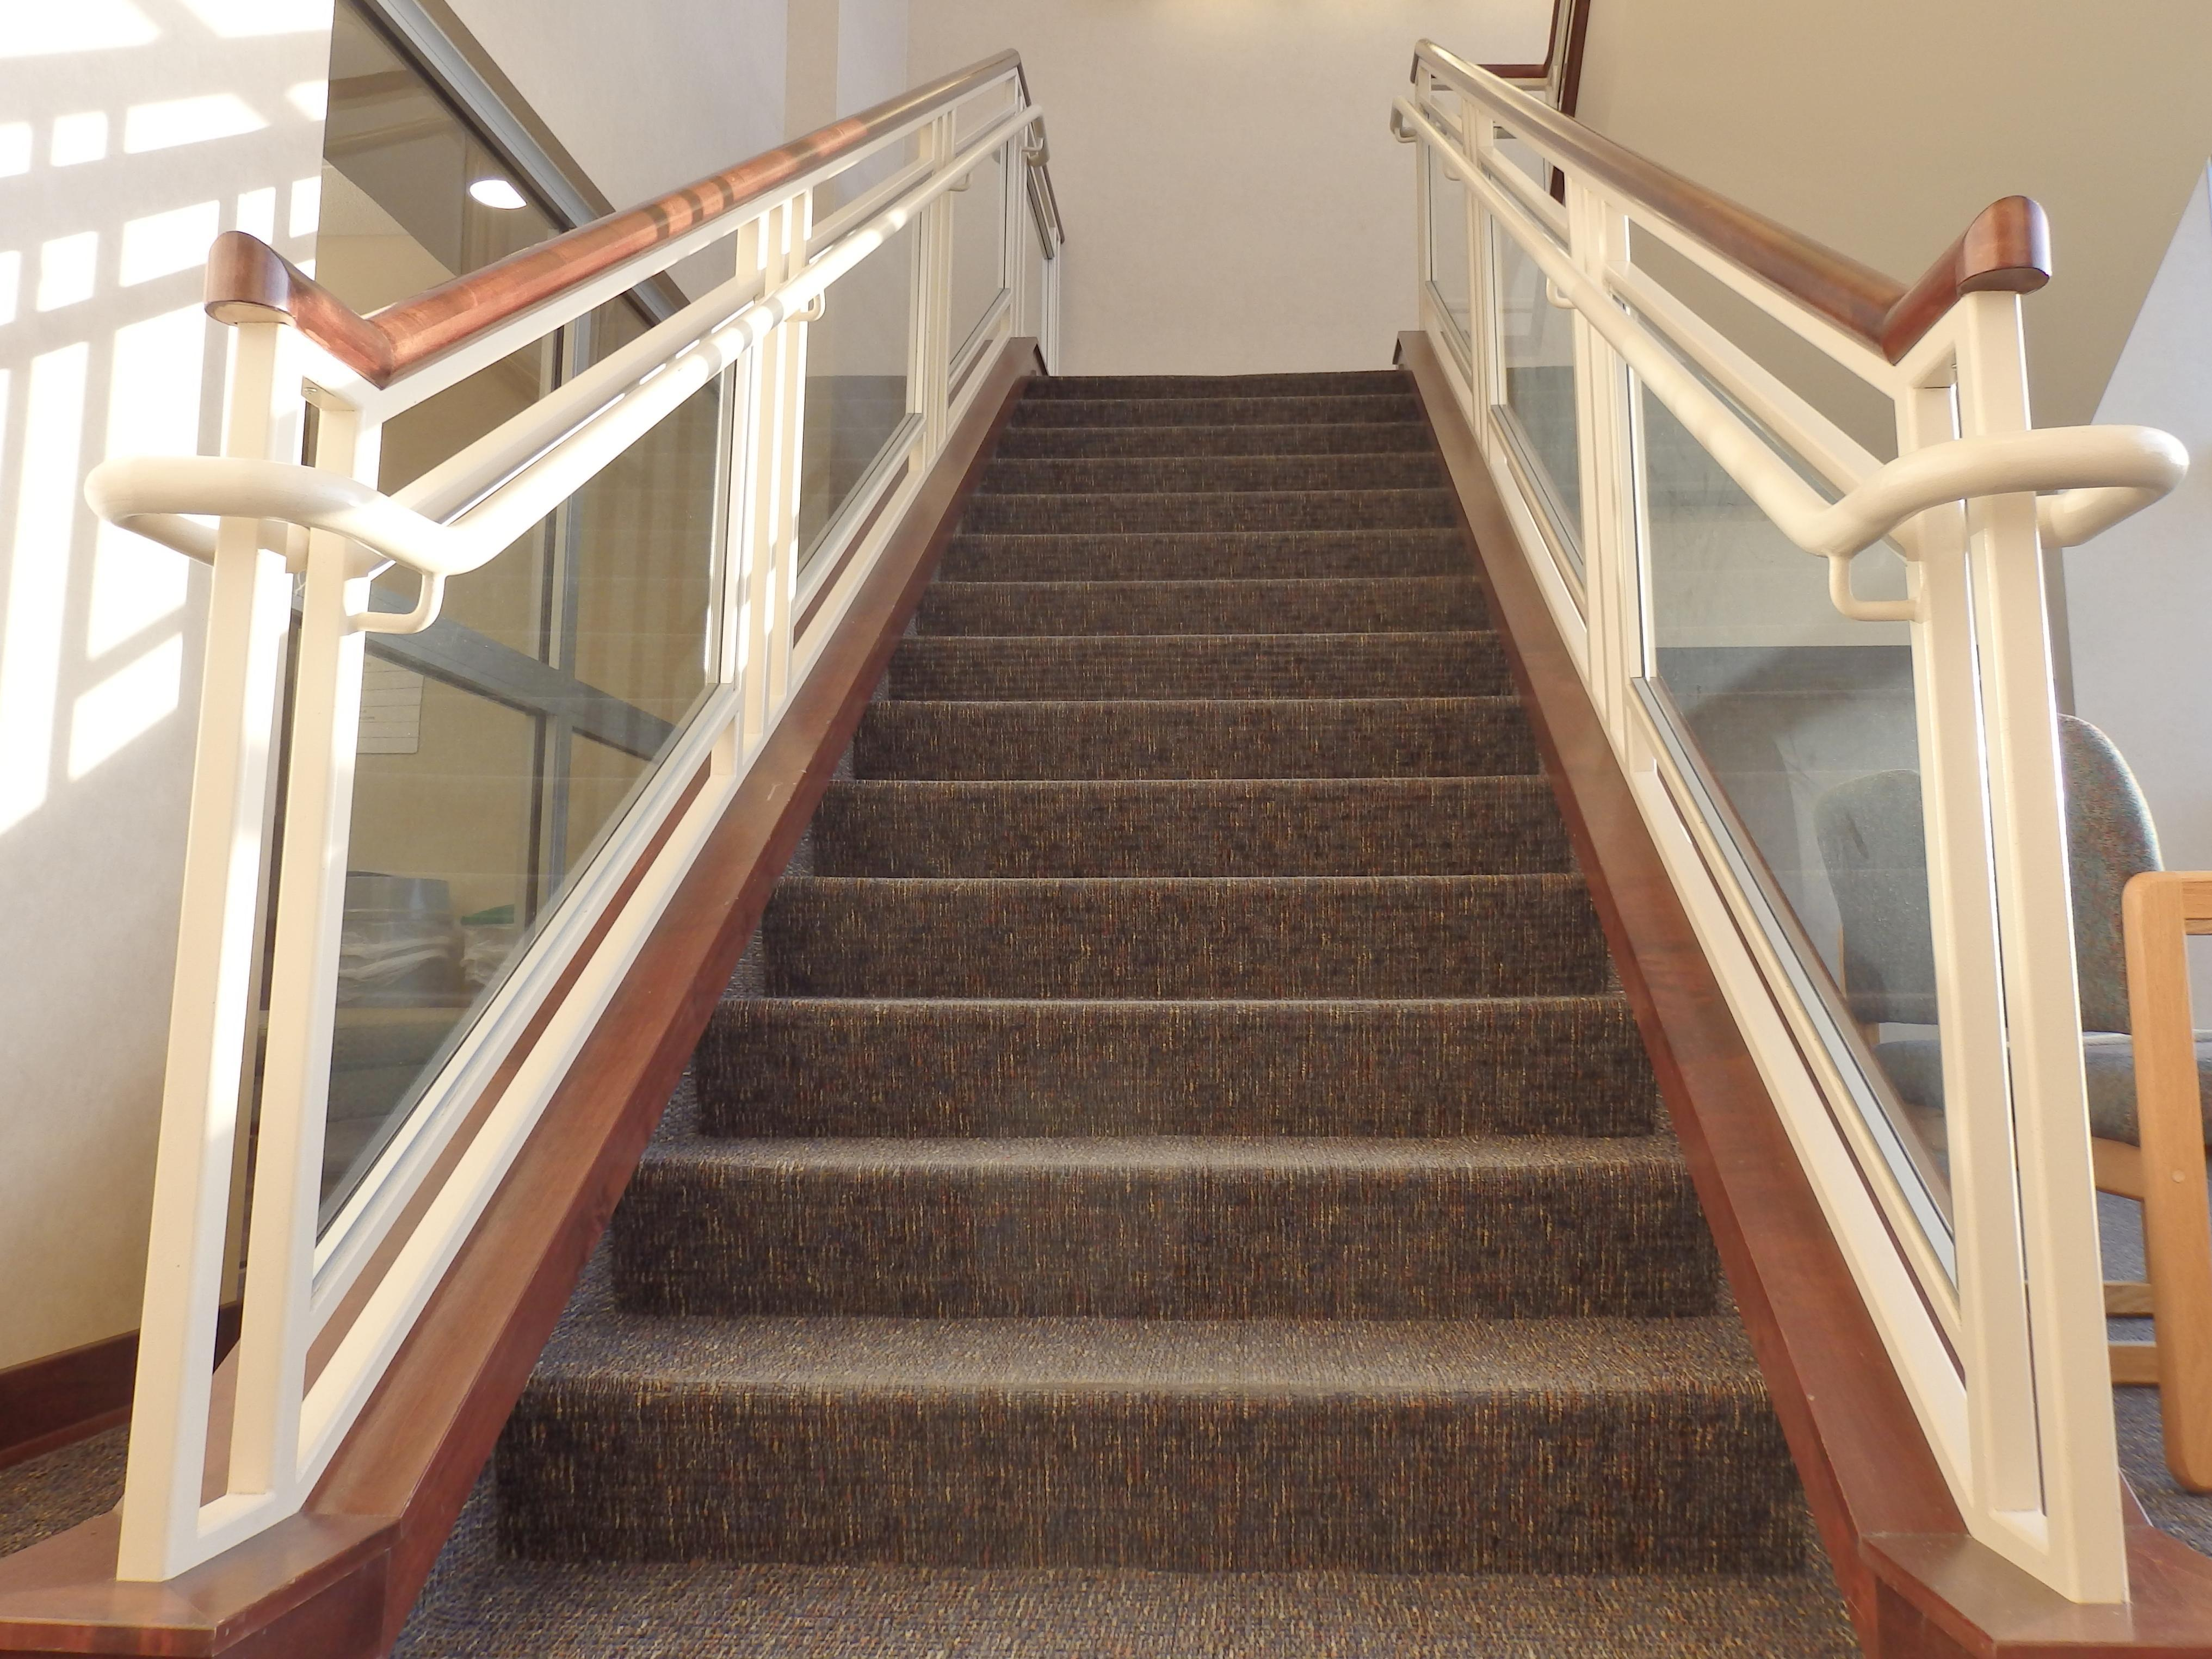stairs_up: (497, 331, 1745, 1629)
